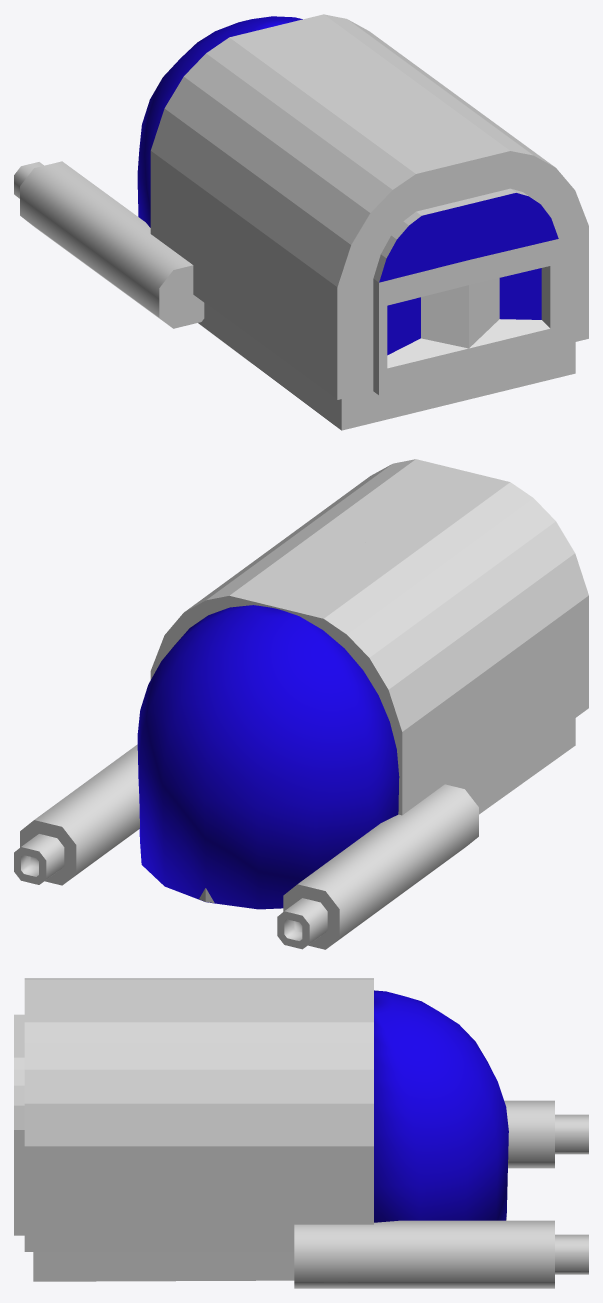
File: spaceship.glb
The picture shows the model from 3 angles, top to bottom: view 1: azimuth 30°, elevation 25°; view 2: azimuth 150°, elevation 25°; view 3: azimuth 270°, elevation 25°; orthographic projection. The views are drawn at different scales.
Visible parts, largest first — view 1: LeftSide, Exit, RightSide, Cube, Floor, Glass; view 2: LeftSide, Glass, Cube, RightSide, Floor; view 3: RightSide, Glass, Cube, LeftSide, Floor, Exit.
Part boxes in pixels (box(x1,y1,x2,y2)): LeftSide: box(150, 26, 463, 399); Exit: box(373, 188, 558, 395); RightSide: box(277, 14, 588, 345); Cube: box(14, 161, 204, 328); Floor: box(198, 303, 575, 430); Glass: box(137, 16, 302, 227); LeftSide: box(276, 470, 588, 815); Glass: box(137, 605, 399, 909); Cube: box(14, 744, 478, 949); RightSide: box(150, 459, 462, 679); Floor: box(199, 718, 575, 902); RightSide: box(24, 1001, 373, 1251); Glass: box(374, 990, 508, 1222); Cube: box(294, 1100, 588, 1288); LeftSide: box(24, 978, 373, 1000); Floor: box(33, 1217, 506, 1281); Exit: box(14, 1014, 24, 1235).
Size of the model in its own units: 11.38 by 8.28 by 18.95.
